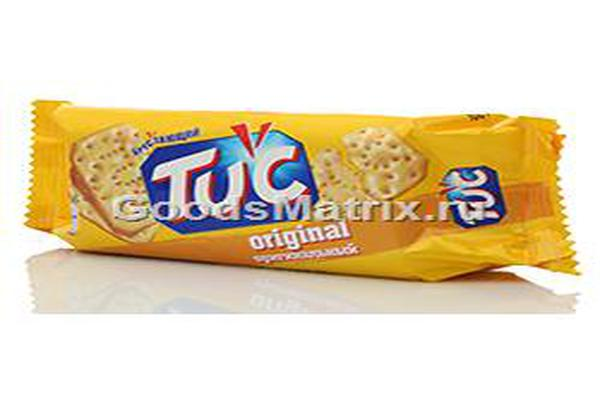crackers tuc: (56, 104, 526, 268)
